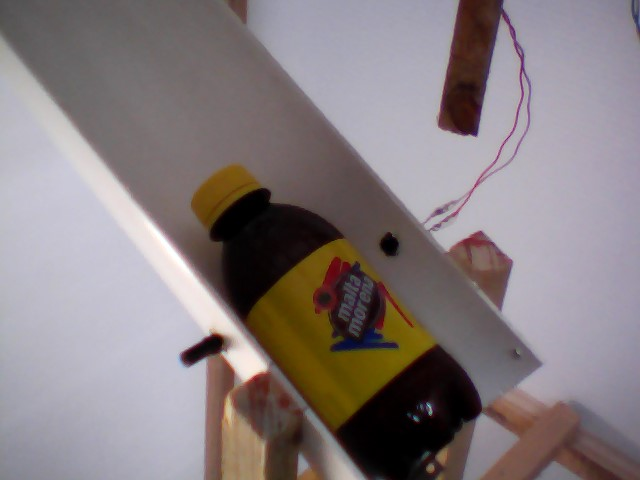plastico: (180, 159, 489, 480)
